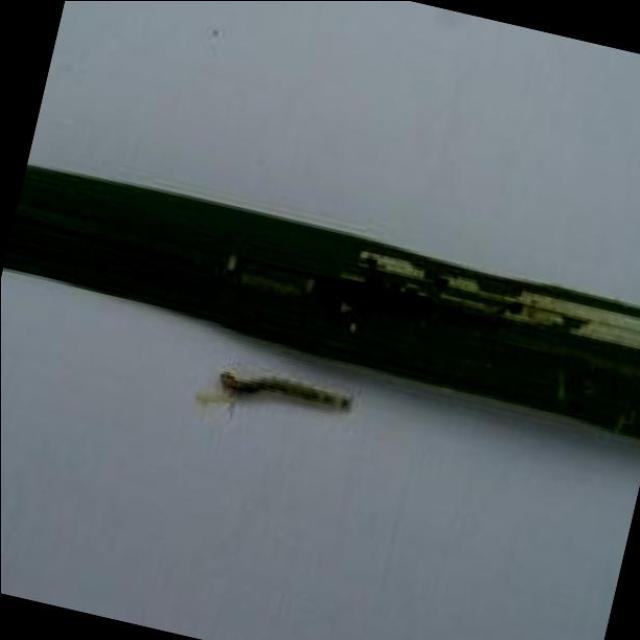leaf folder: (197, 369, 350, 412)
